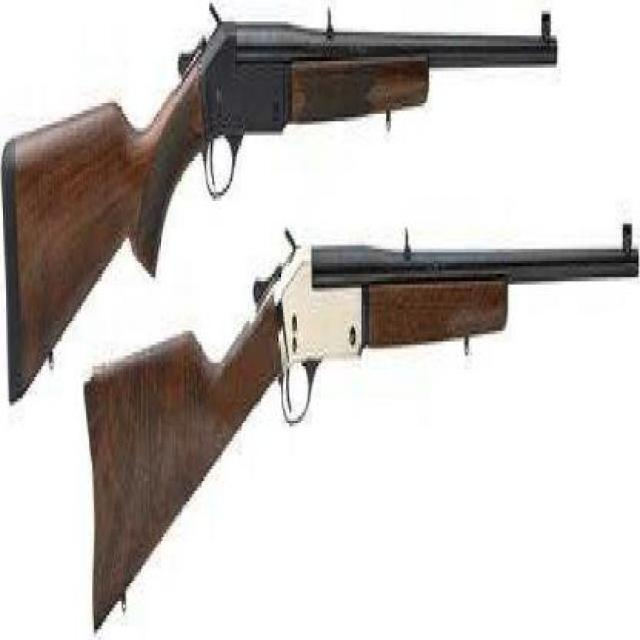weapon: (87, 223, 640, 629), (8, 7, 555, 406)
